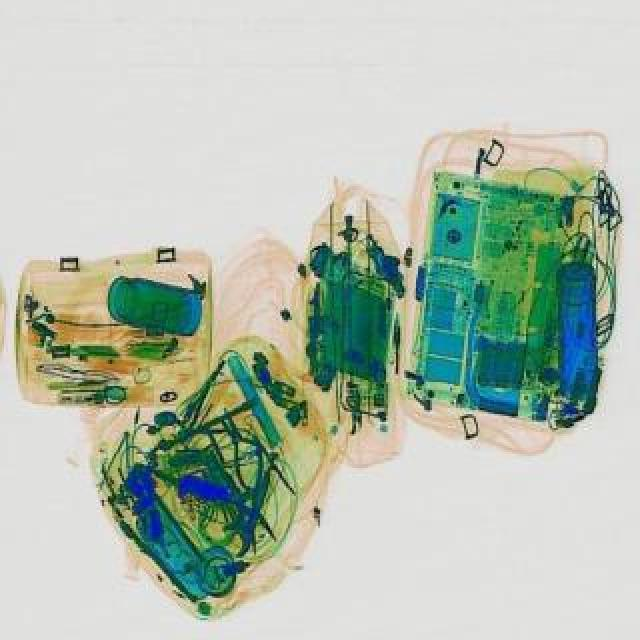wrench: (206, 430, 290, 558), (200, 396, 284, 492)
